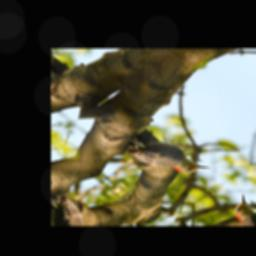Woodpecker: (116, 119, 211, 191)
